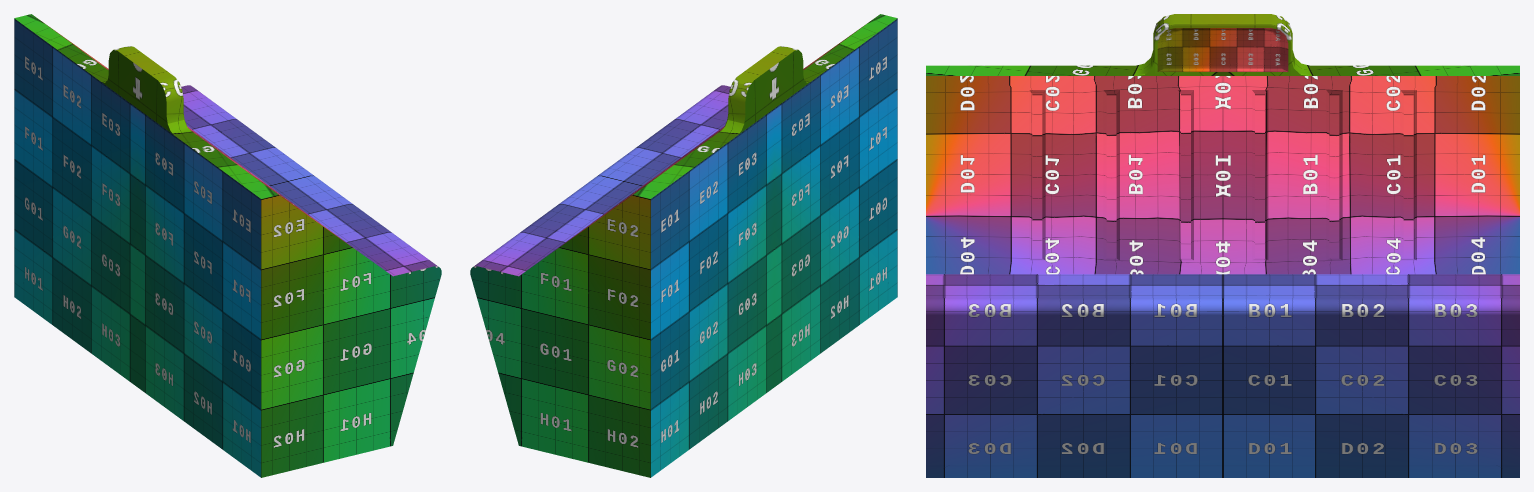
3 views of the same model, side by side, from view 1: azimuth 30°, elevation 25°; view 2: azimuth 150°, elevation 25°; view 3: azimuth 270°, elevation 25° (orthographic). The views are drawn at different scales.
Parts seen in each view (by area): view 1: ElecBase_low; view 2: ElecBase_low; view 3: ElecBase_low.
Part boxes in pixels (x1,y1,x2,y2): ElecBase_low: [14, 14, 441, 477]; ElecBase_low: [470, 14, 897, 477]; ElecBase_low: [926, 14, 1519, 477].
Size of the model in its own units: 115 by 196 by 272.
